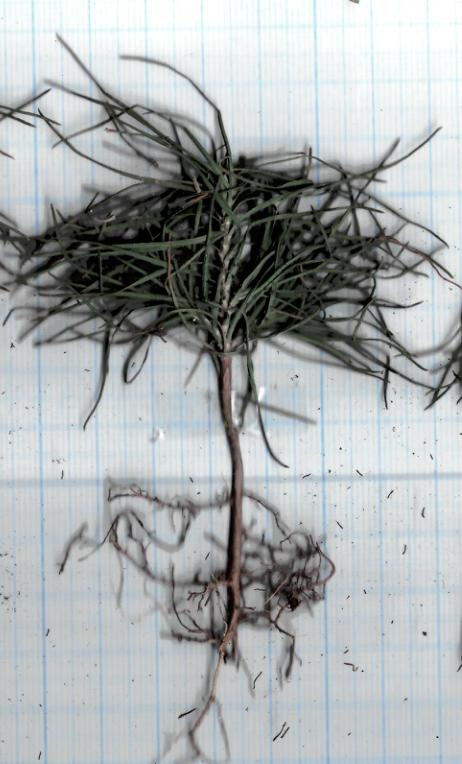flower: (21, 30, 439, 407)
root: (83, 484, 335, 764)
stem: (213, 362, 250, 486)
